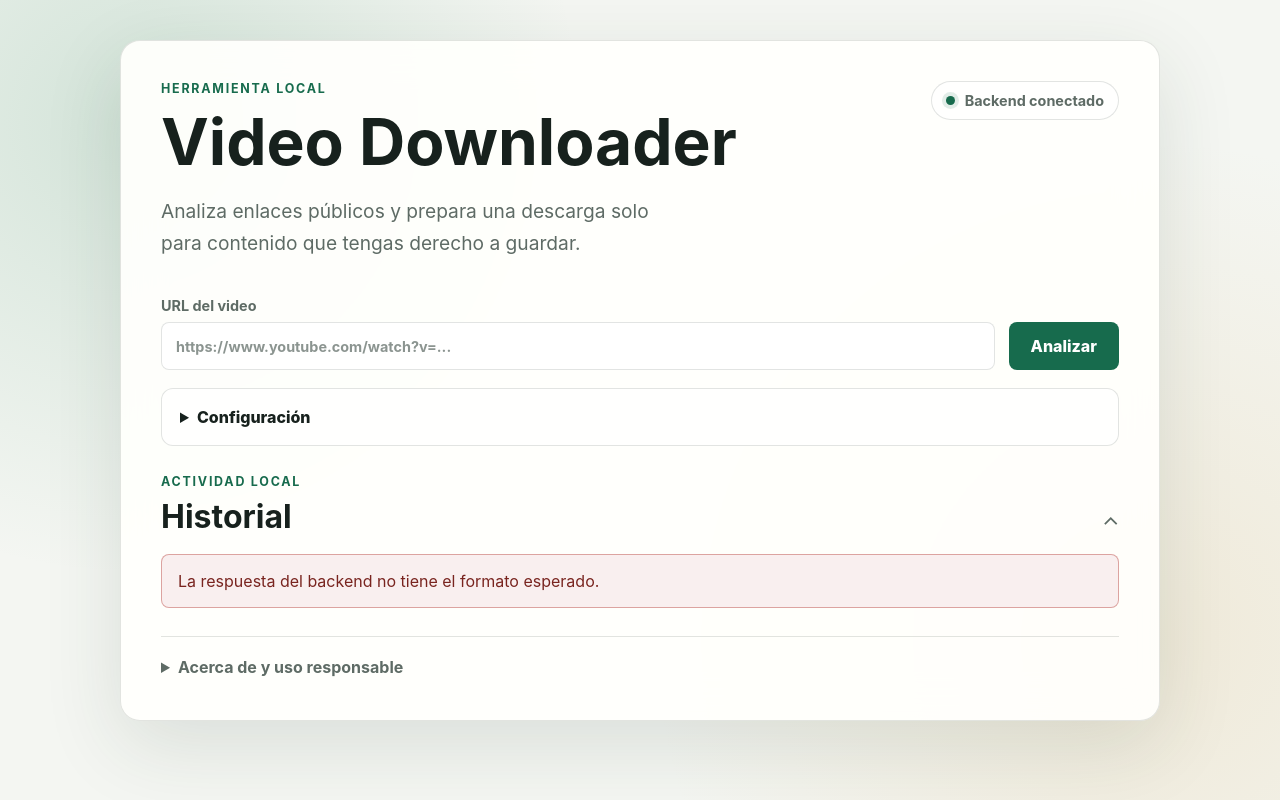
Test: App › shows a local validation error for an empty URL
Click the button "Analizar".
click(1064, 346)  # box [1009, 322, 1119, 370]
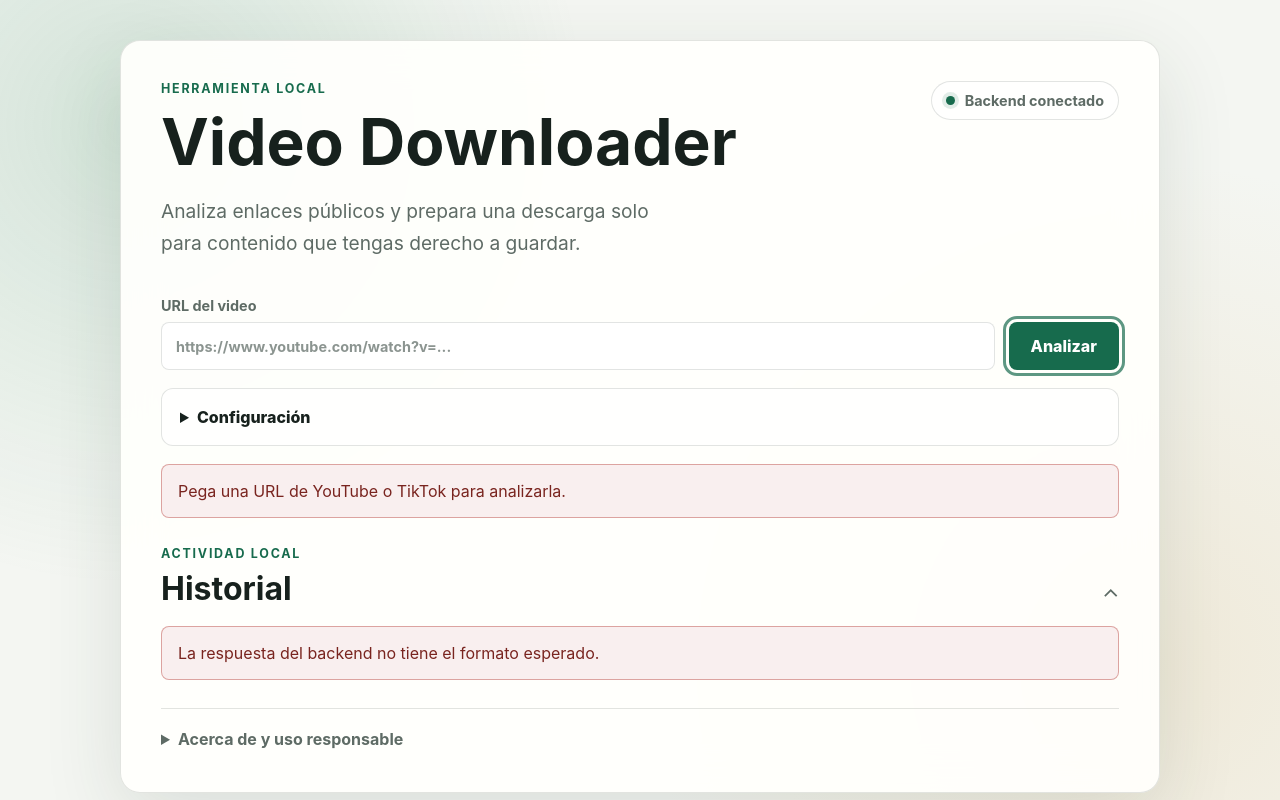
Check: the text "Pega una URL de YouTube o TikTok para analizarla." is shown, box [161, 464, 1119, 518]
